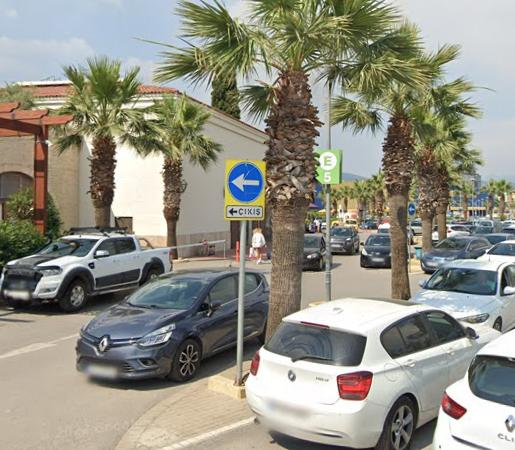turnleft: (226, 159, 265, 202)
